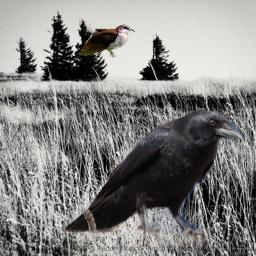Crow: (55, 107, 245, 250)
Cuckoo: (79, 3, 135, 58)
